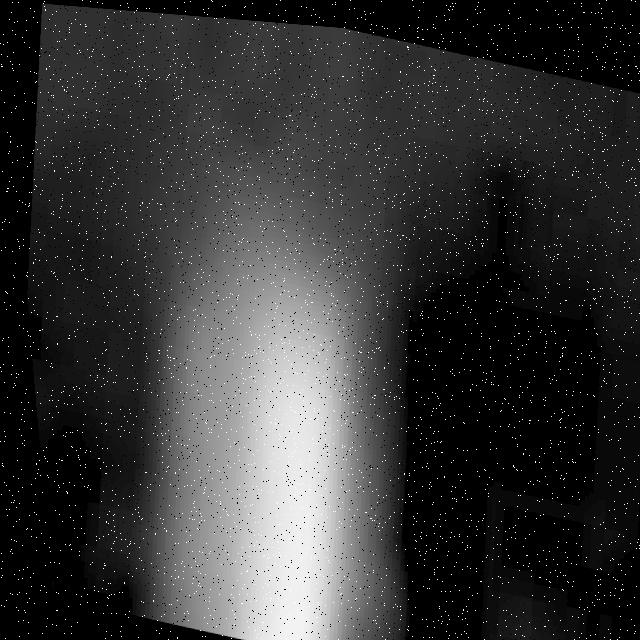person: (101, 207, 411, 640)
